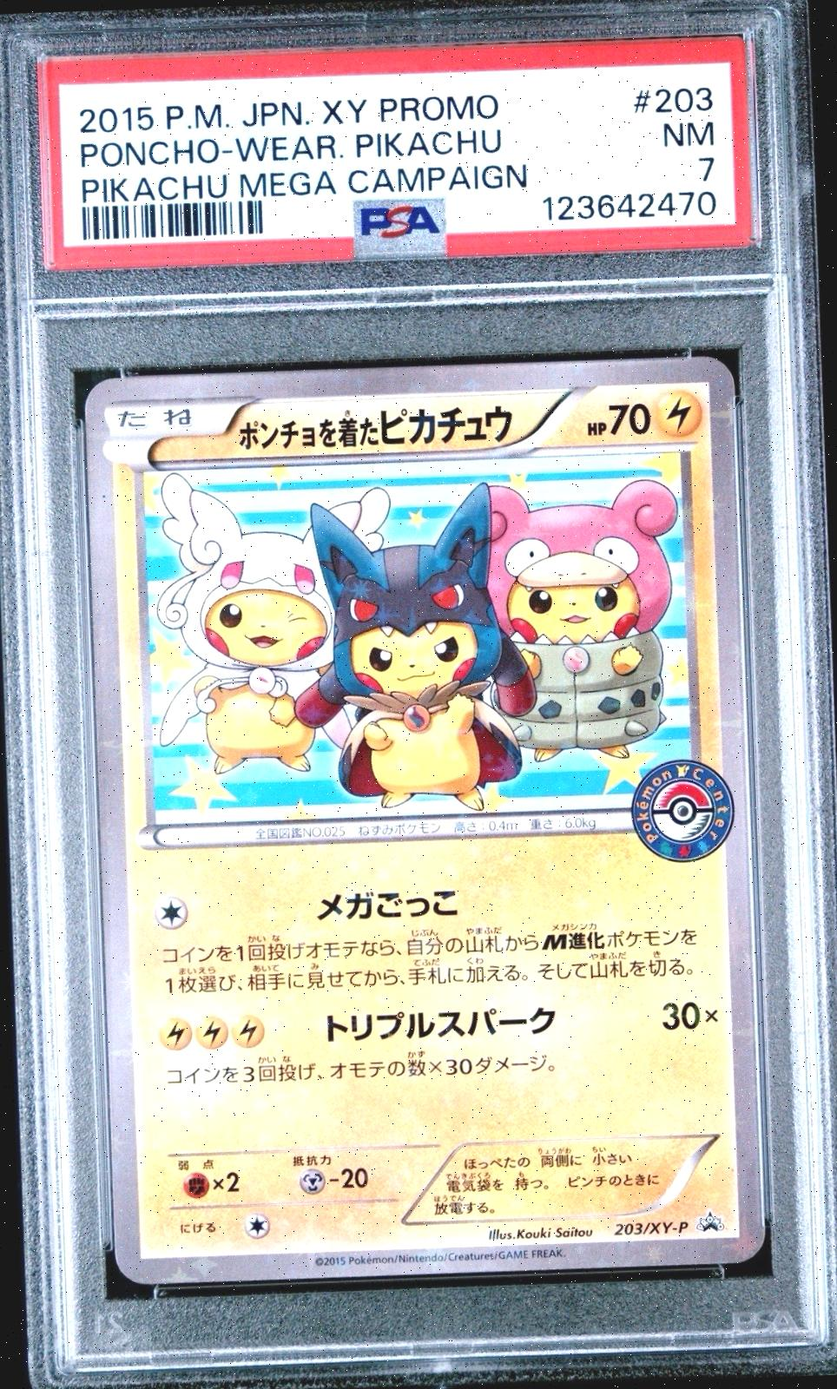card-2UtV: (84, 355, 766, 1286)
